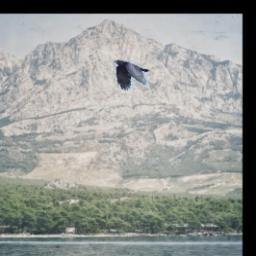Crow: (113, 59, 149, 91)
